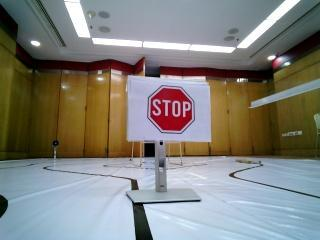stop: (137, 82, 210, 136)
